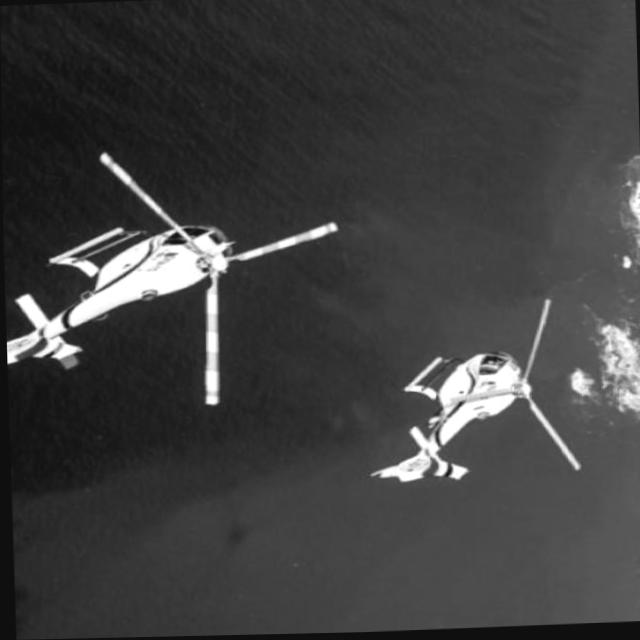helikopter: (2, 186, 328, 387), (370, 290, 579, 489)
